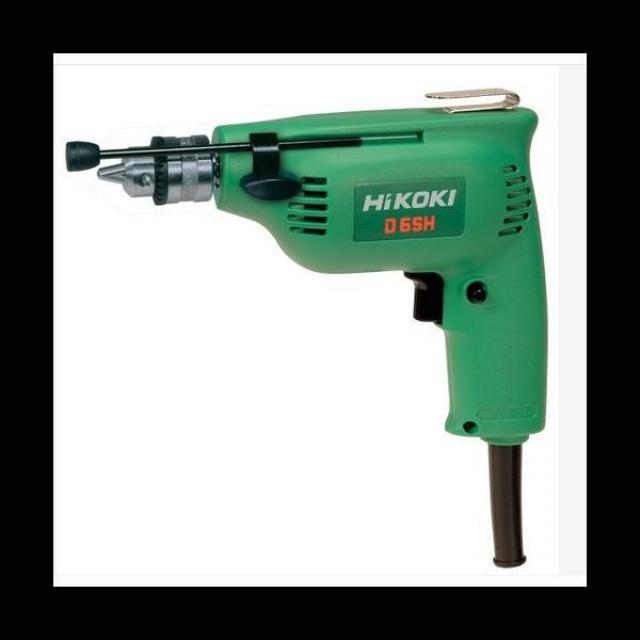drill: (53, 64, 588, 576), (63, 88, 549, 570)
